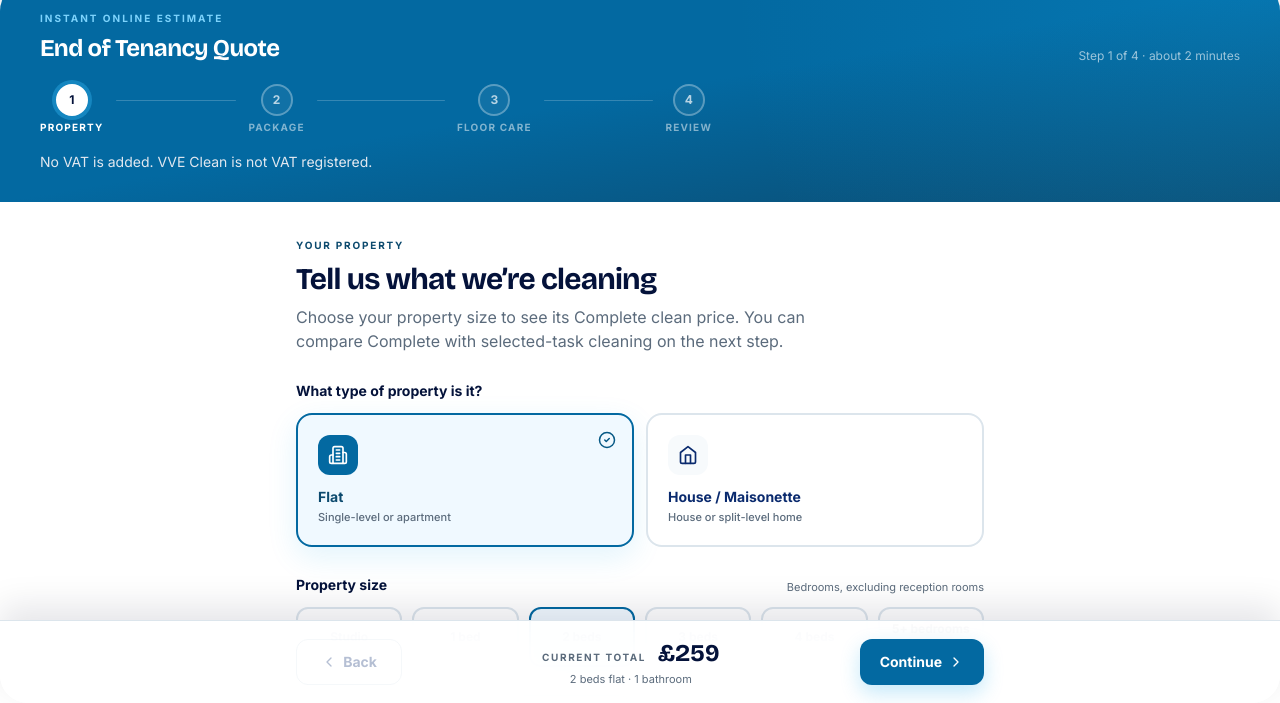
Test: EotQuoteWizard — Step 2: Choose your cleaning package › Tailored states the oven is included and other appliance interiors are optional
Click the button "Continue": coordinates (922, 662) [860,639,984,685]
(page scrolled)
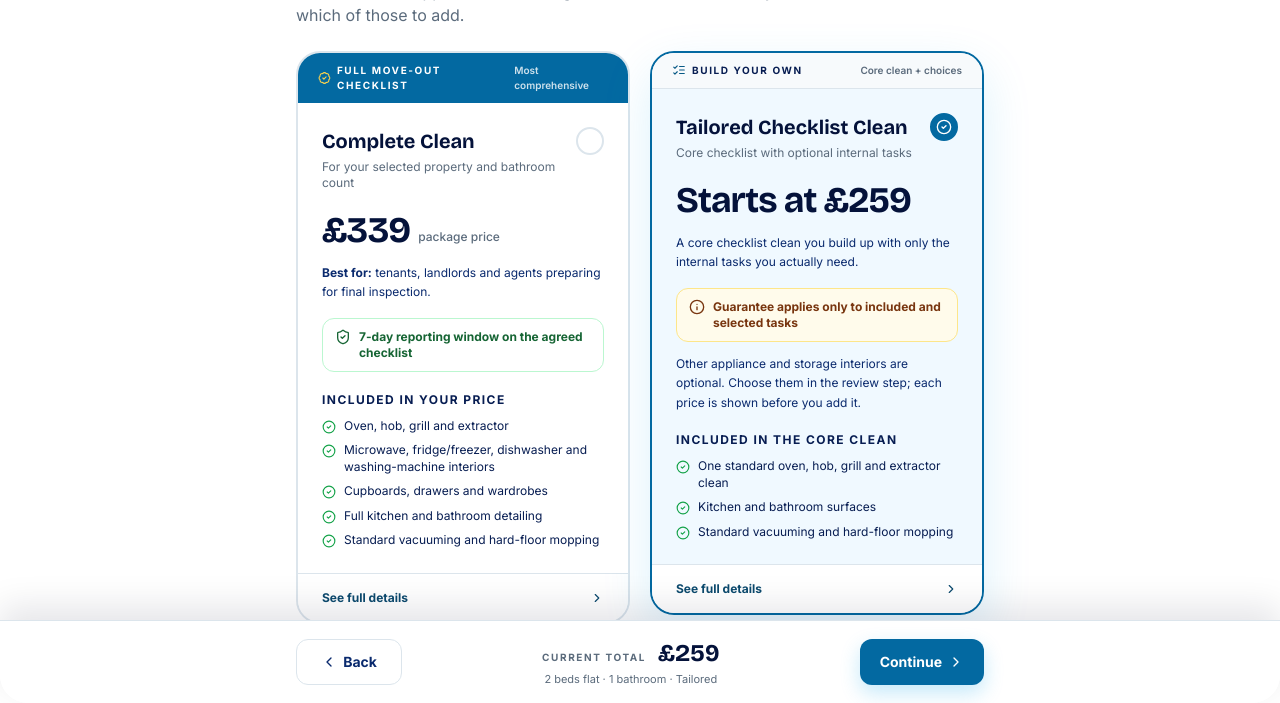
Now the text "One standard oven, hob, grill and extractor clean" is shown, box [676,458,958,491]
Now the text "Other appliance and storage interiors are optional" is shown, box [676,356,942,410]
